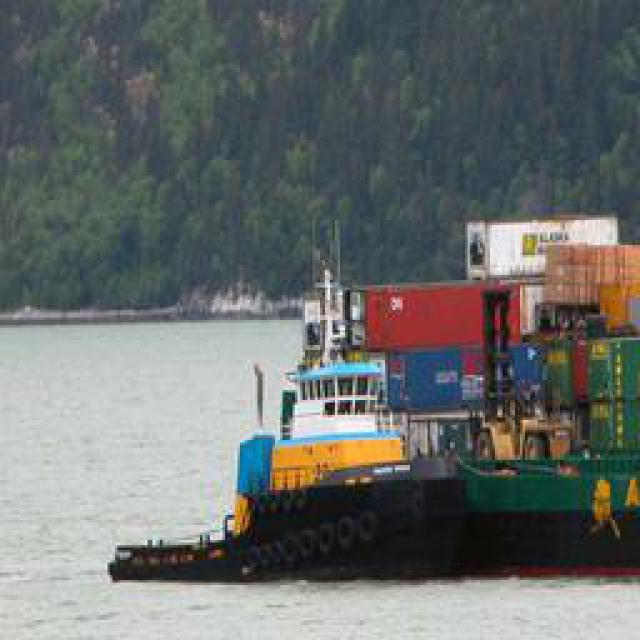Ship: (112, 201, 632, 581)
